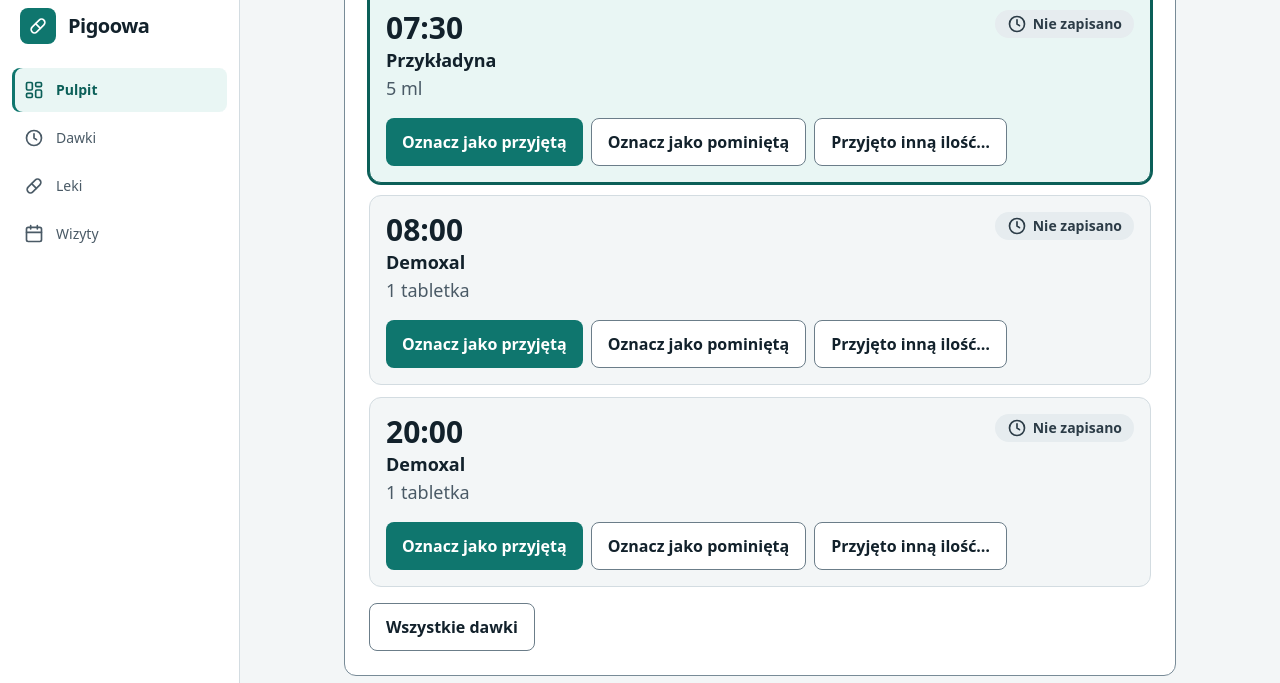
dashboard: today’s doses › a double click records the dose once
(page scrolled)
Double-click the button with aria-label "Oznacz jako przyjętą: Demoxal, 08:00": (484, 344) [386,320,583,368]
(page scrolled)
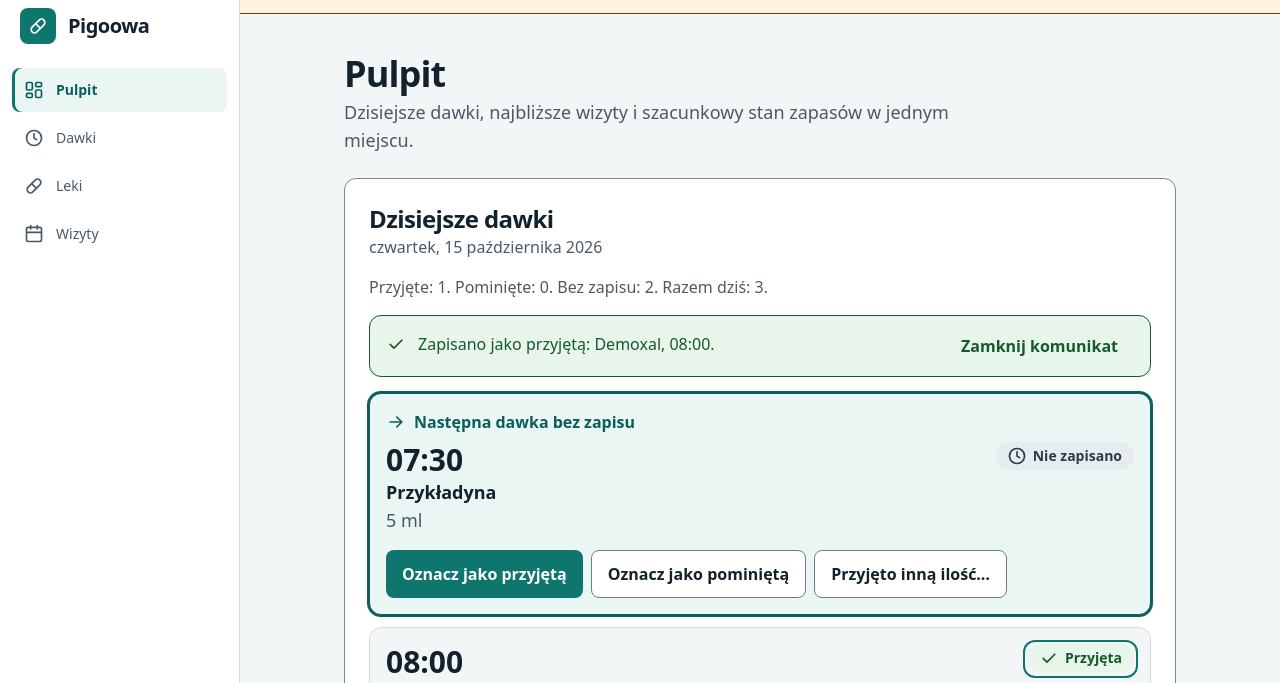
Check: the text "Zapisano jako przyjętą: Demoxal, 08:00." is shown, box [418,333,715,355]
